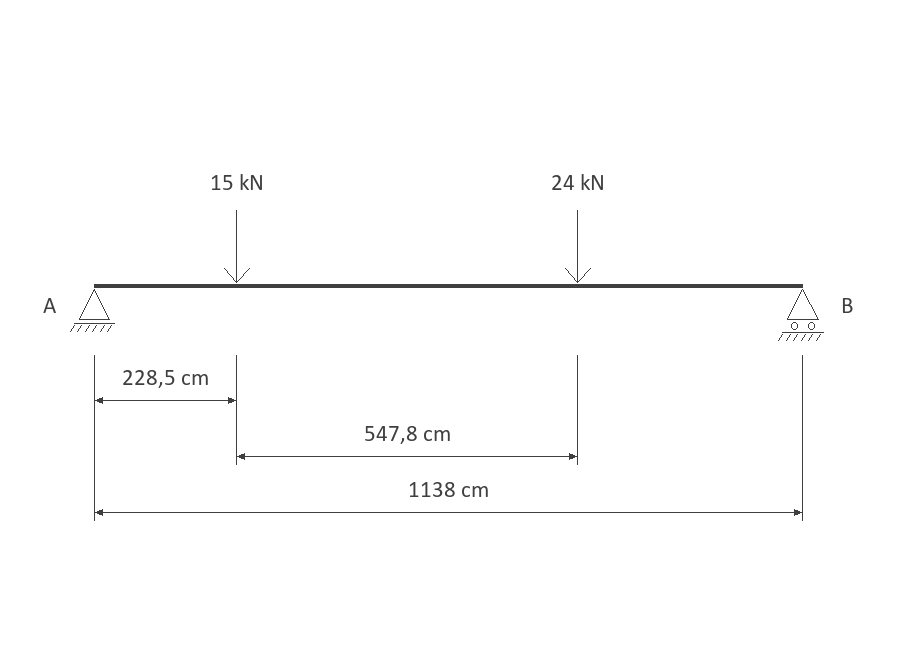pin_support: (70, 289, 115, 332)
point_load: (224, 210, 250, 283), (565, 210, 591, 283)
roller_support: (778, 289, 824, 341)
